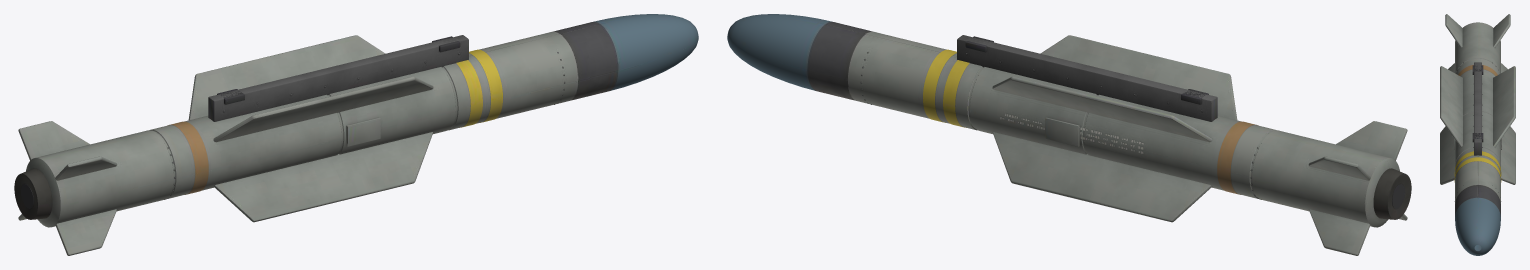
Rendered from agm_1.glb.
The picture shows the model from 3 angles, left to right: view 1: azimuth 30°, elevation 25°; view 2: azimuth 150°, elevation 25°; view 3: azimuth 270°, elevation 25°; orthographic projection. The views are drawn at different scales.
Parts seen in each view (by area): view 1: agm_1; view 2: agm_1; view 3: agm_1.
Part boxes in pixels (x1,y1,x2,y2): agm_1: (14,14,698,255); agm_1: (727,14,1411,255); agm_1: (1440,14,1515,255).
Bounding box in the file's own units: 0.995 × 0.152 × 0.152.
Materials: 9 (9 with a texture image).
